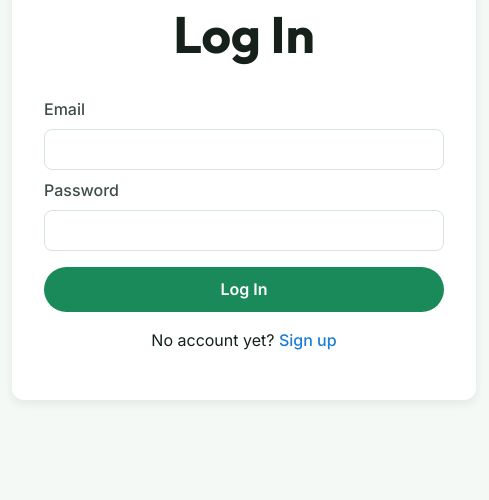
Scenario: LoginPage › shows an error message on failed login
In the field labelled "Email": x=244, y=150 [44,129,444,170], type "hiker@example.com"
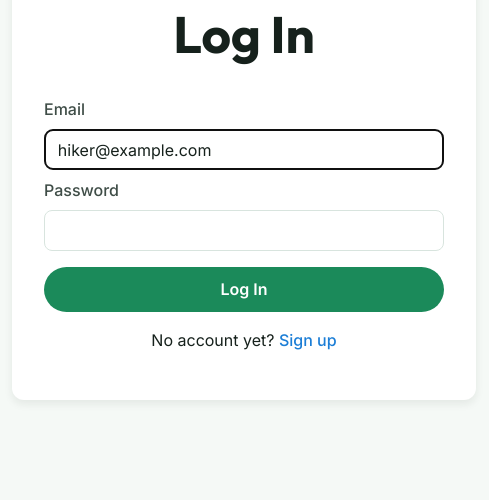
In the password field labelled "Password": x=244, y=231 [44,210,444,251], type "wrong"
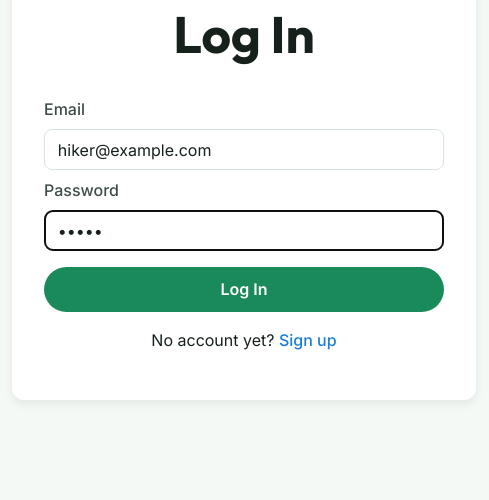
Click the button "Log In": x=244, y=290 [44,267,444,312]
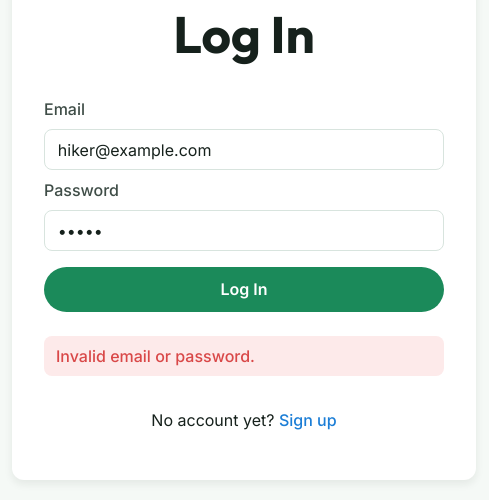
Expected: the text "Invalid email or password." is shown, [44,336,444,376]
